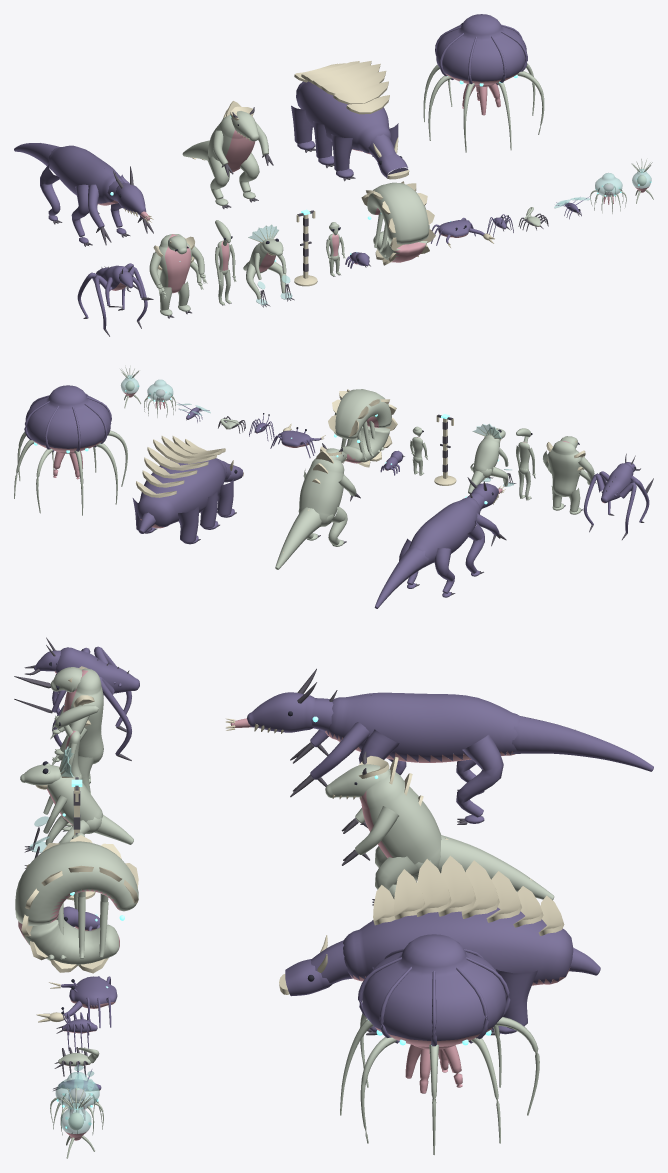
The picture shows the model from 3 angles, top to bottom: view 1: azimuth 30°, elevation 25°; view 2: azimuth 150°, elevation 25°; view 3: azimuth 270°, elevation 25°; orthographic projection. The views are drawn at different scales.
Visible parts, largest first — view 1: 002-plated-grazer/0, 000-six-limbed-apex-predator/0, 003-tentacled-floater/1, 002-plated-grazer/2, 001-heavy-reptilian-xeno/0, 011-armoured-pill-form/0, 005-four-armed-labourer-xeno/0, 004-chitinous-insectoid-warrior/0, 003-tentacled-floater/3, 007-amphibious-frilled-xeno/0, 006-elder-xeno-elongated-cranium/0, 011-armoured-pill-form/2 (+9 smaller); view 2: 000-six-limbed-apex-predator/0, 002-plated-grazer/0, 001-heavy-reptilian-xeno/0, 003-tentacled-floater/1, 011-armoured-pill-form/0, 002-plated-grazer/2, 005-four-armed-labourer-xeno/0, 004-chitinous-insectoid-warrior/0, 007-amphibious-frilled-xeno/0, 003-tentacled-floater/3, 006-elder-xeno-elongated-cranium/0, 011-armoured-pill-form/2 (+5 smaller); view 3: 000-six-limbed-apex-predator/0, 002-plated-grazer/0, 003-tentacled-floater/1, 011-armoured-pill-form/0, 001-heavy-reptilian-xeno/0, 002-plated-grazer/2, 007-amphibious-frilled-xeno/0, 003-tentacled-floater/3, 004-chitinous-insectoid-warrior/0, 005-four-armed-labourer-xeno/0, 011-armoured-pill-form/2, 003-tentacled-floater/0 (+5 smaller).
Boxes of the visible parts, box(x1,y1,x2,y2) form: 002-plated-grazer/0: box(291, 81, 408, 178); 000-six-limbed-apex-predator/0: box(14, 143, 146, 243); 003-tentacled-floater/1: box(436, 14, 526, 81); 002-plated-grazer/2: box(294, 61, 409, 179); 001-heavy-reptilian-xeno/0: box(182, 111, 268, 205); 011-armoured-pill-form/0: box(367, 182, 429, 260); 005-four-armed-labourer-xeno/0: box(149, 234, 207, 315); 004-chitinous-insectoid-warrior/0: box(77, 263, 147, 329); 003-tentacled-floater/3: box(423, 63, 544, 152); 007-amphibious-frilled-xeno/0: box(243, 239, 286, 299); 006-elder-xeno-elongated-cranium/0: box(215, 220, 236, 305); 011-armoured-pill-form/2: box(361, 181, 435, 265); 000-six-limbed-apex-predator/0: box(374, 483, 499, 608); 002-plated-grazer/0: box(132, 458, 243, 544); 001-heavy-reptilian-xeno/0: box(275, 448, 356, 569); 003-tentacled-floater/1: box(25, 385, 110, 448); 011-armoured-pill-form/0: box(334, 389, 391, 462); 002-plated-grazer/2: box(136, 435, 243, 497); 005-four-armed-labourer-xeno/0: box(543, 436, 596, 514); 004-chitinous-insectoid-warrior/0: box(583, 462, 649, 533); 007-amphibious-frilled-xeno/0: box(468, 428, 508, 493); 003-tentacled-floater/3: box(14, 430, 127, 515); 006-elder-xeno-elongated-cranium/0: box(516, 428, 535, 500); 011-armoured-pill-form/2: box(328, 389, 397, 467); 000-six-limbed-apex-predator/0: box(247, 692, 653, 823); 002-plated-grazer/0: box(285, 907, 600, 1034); 003-tentacled-floater/1: box(362, 934, 505, 1040); 011-armoured-pill-form/0: box(15, 841, 138, 965); 001-heavy-reptilian-xeno/0: box(325, 764, 554, 900); 002-plated-grazer/2: box(279, 855, 564, 994); 007-amphibious-frilled-xeno/0: box(20, 763, 133, 845); 003-tentacled-floater/3: box(340, 1013, 539, 1154); 004-chitinous-insectoid-warrior/0: box(34, 646, 139, 755); 005-four-armed-labourer-xeno/0: box(50, 667, 103, 793); 011-armoured-pill-form/2: box(21, 835, 138, 973); 003-tentacled-floater/0: box(375, 1027, 492, 1093).
Size of the model in its own units: 15.43 by 2.96 by 9.7.
